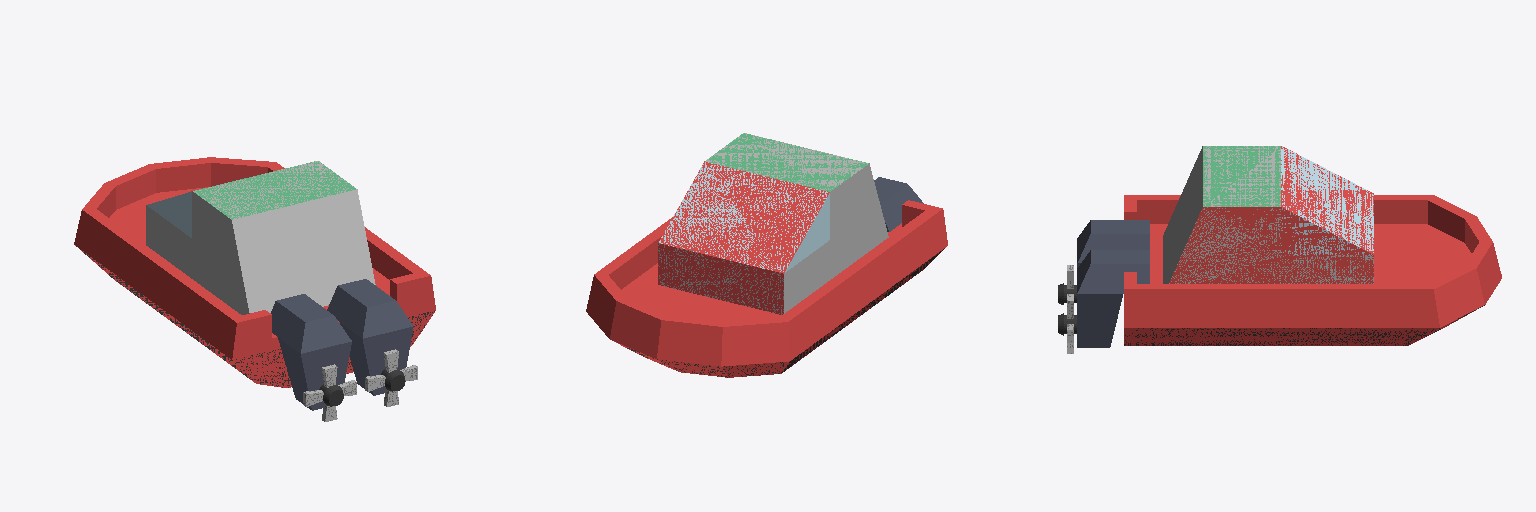
File: boat_010.obj
3 views of the same model, side by side, from view 1: azimuth 30°, elevation 25°; view 2: azimuth 150°, elevation 25°; view 3: azimuth 270°, elevation 25° (orthographic).
Parts seen in each view (by area): view 1: boat_010, Group; view 2: boat_010, Group; view 3: boat_010, Group.
Part boxes in pixels (x1,y1,x2,y2): boat_010: (74,157,435,387); Group: (271,279,417,421); boat_010: (586,133,947,377); Group: (874,177,923,231); boat_010: (1124,146,1501,345); Group: (1058,220,1149,353).
Size of the model in its own units: 1.78 by 1.33 by 3.37.